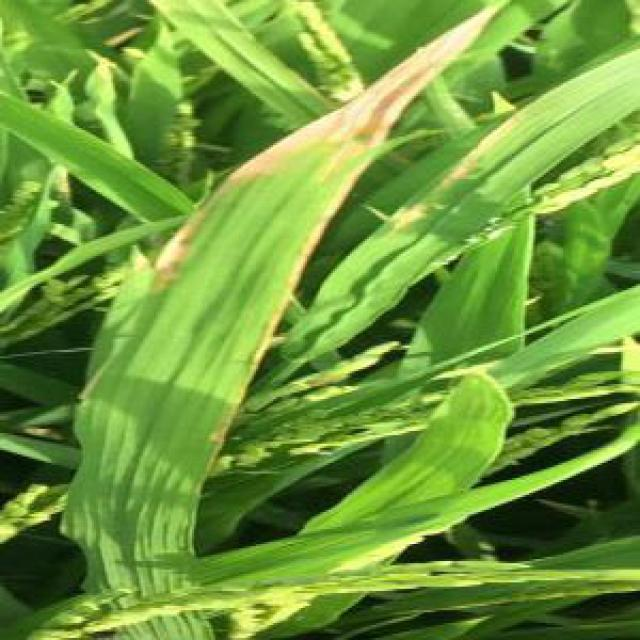Bacterial_Blight: (144, 7, 500, 280)
